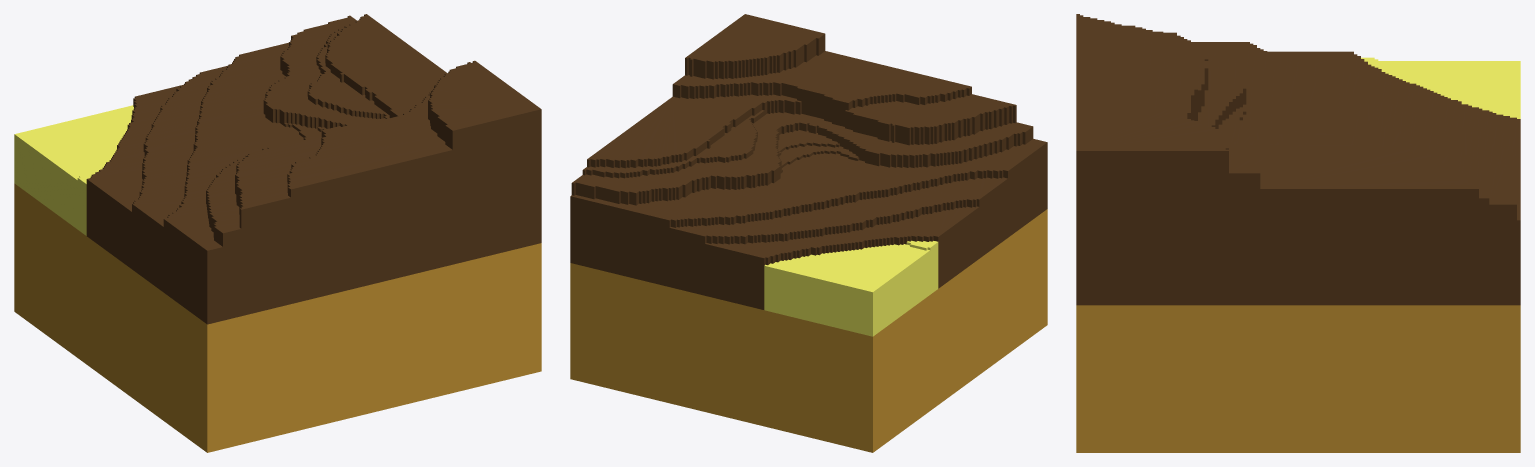
3 renders of one model, left to right at view 1: azimuth 30°, elevation 25°; view 2: azimuth 150°, elevation 25°; view 3: azimuth 270°, elevation 25°, orthographic. The views are drawn at different scales.
Visible parts, largest first — view 1: 2P; view 2: 2P; view 3: 2P.
Part boxes in pixels (box(x1,y1,x2,y2)): 2P: box(14, 14, 541, 452); 2P: box(570, 14, 1047, 452); 2P: box(1076, 14, 1520, 452).
Size of the model in its own units: 12.8 by 9.6 by 12.8.
Materials: 1 (1 with a texture image).
